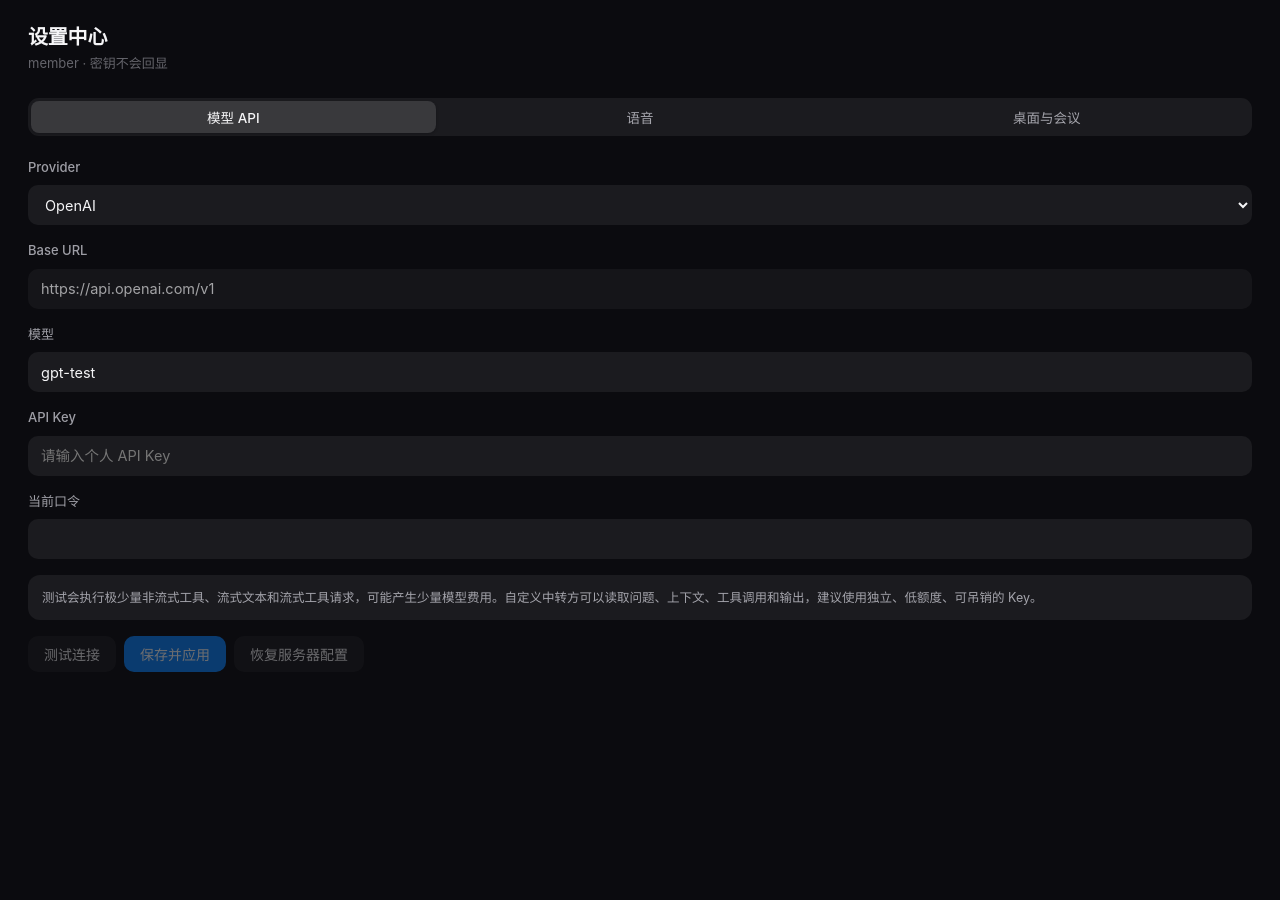
Test: 「桌面与会议」页签 › 彻底关闭需二次确认才发 quit
Step 1. Click the tab "桌面与会议" → (1047, 116), box [844,100,1249,132]
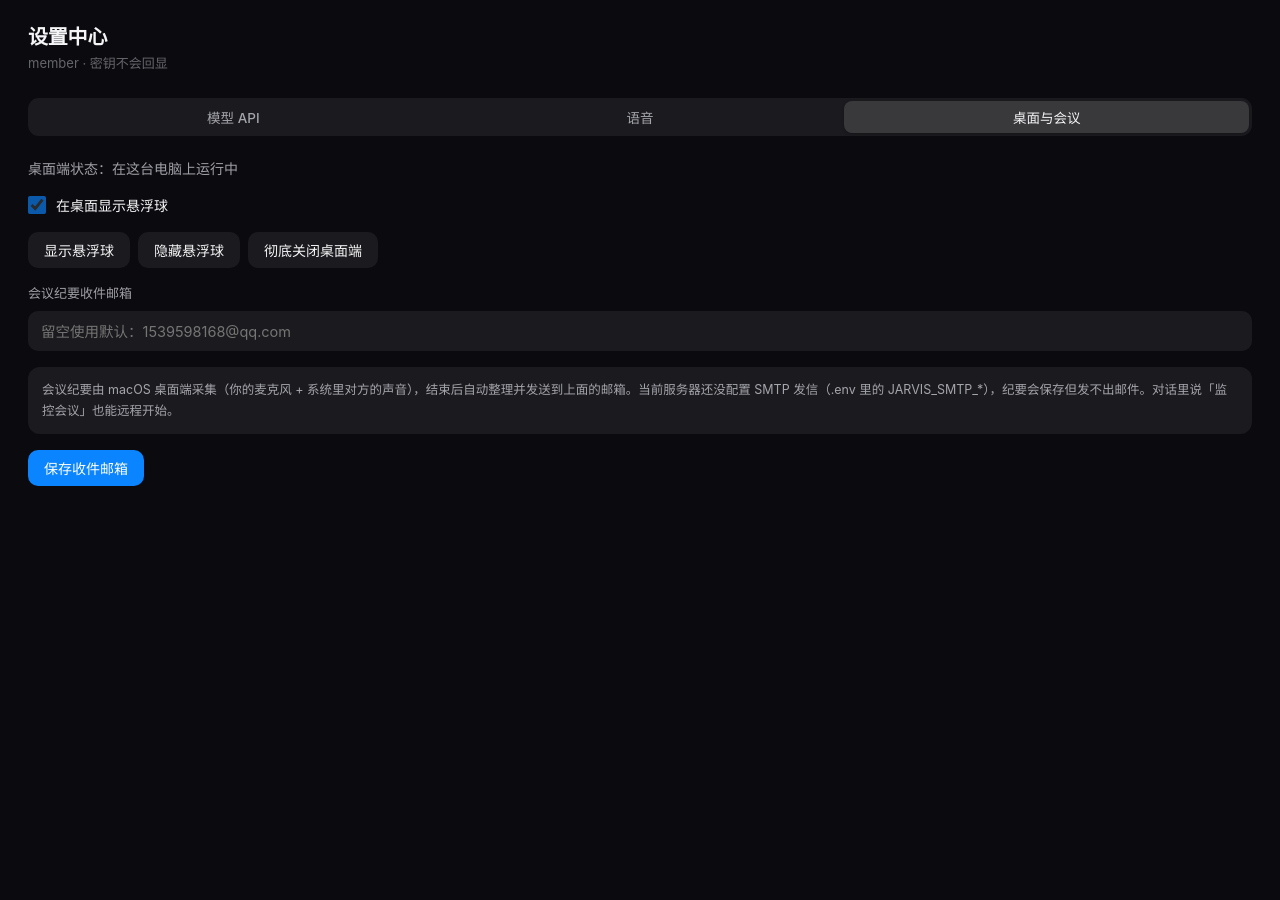
Step 2. Click the button "彻底关闭桌面端" → (313, 250), box [248,232,378,268]
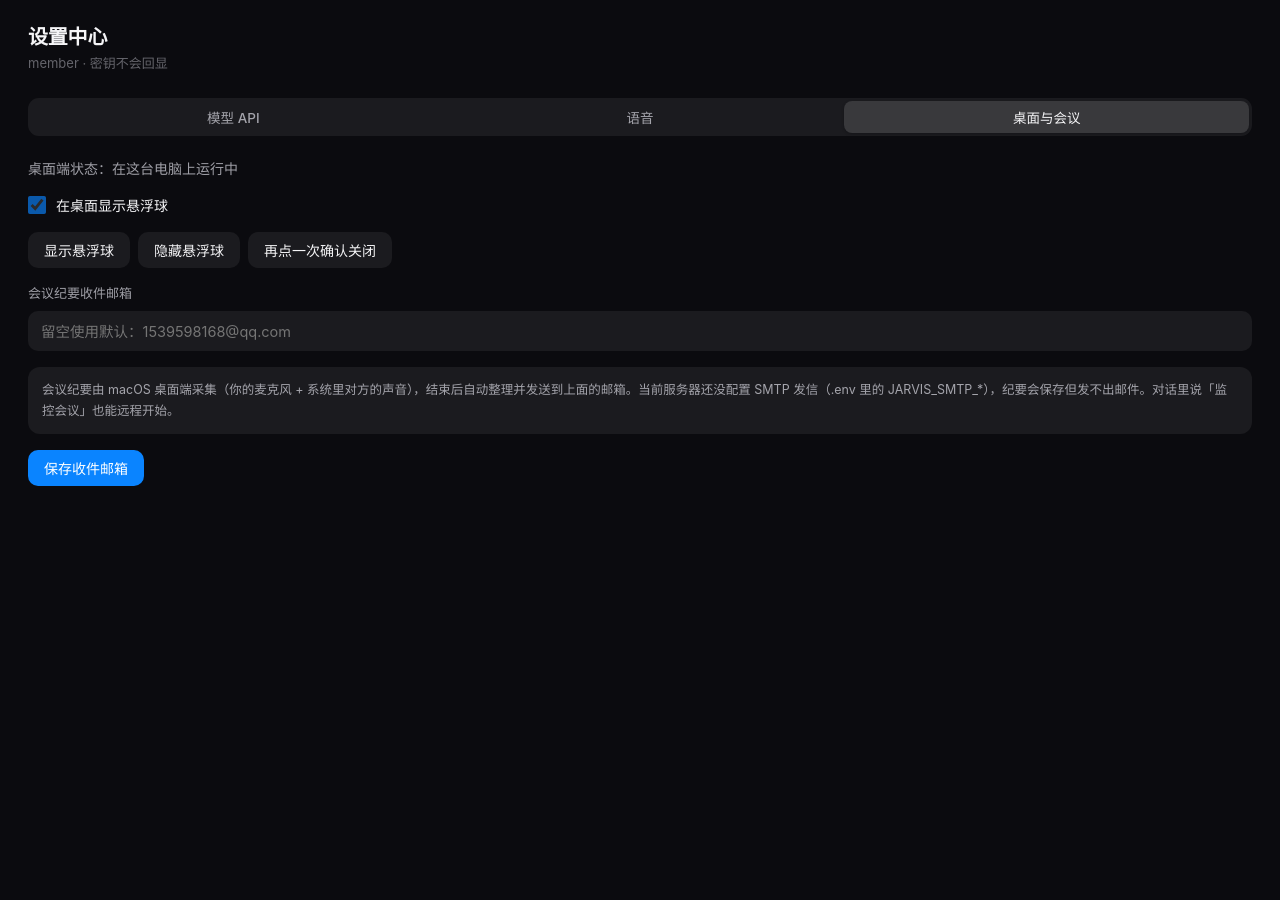
Step 3. Click the button "再点一次确认关闭" → (320, 250), box [248,232,392,268]
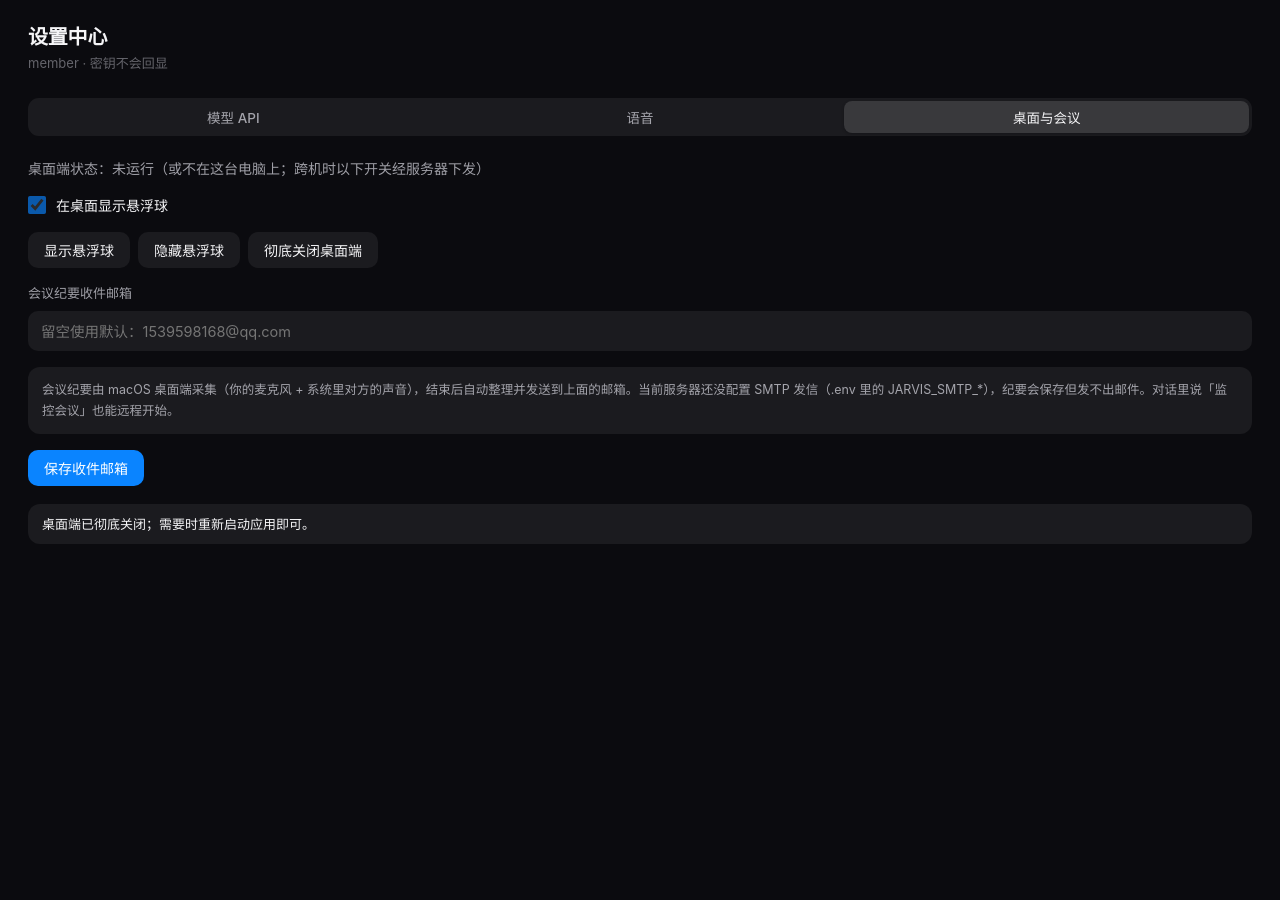
expect the text "桌面端已彻底关闭；需要时重新启动应用即可。" is shown: met, box [28,504,1252,544]
